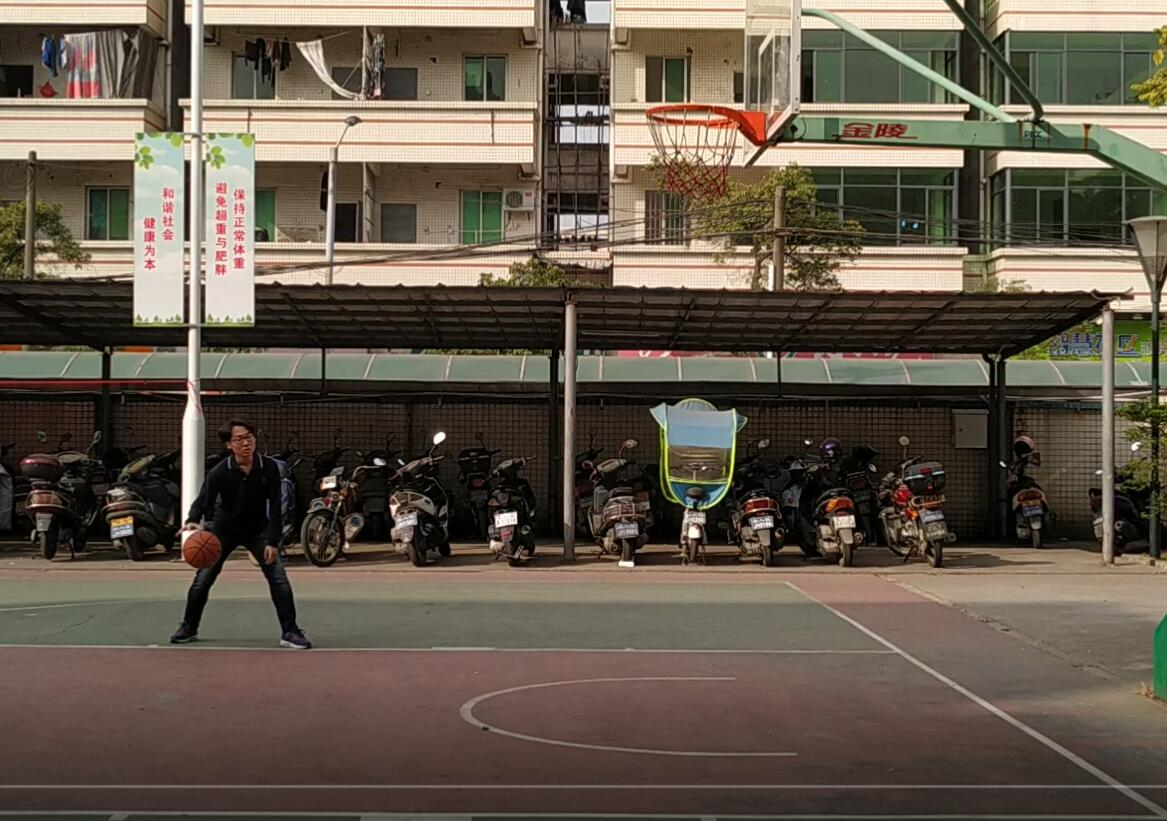basketball: (180, 527, 227, 574)
